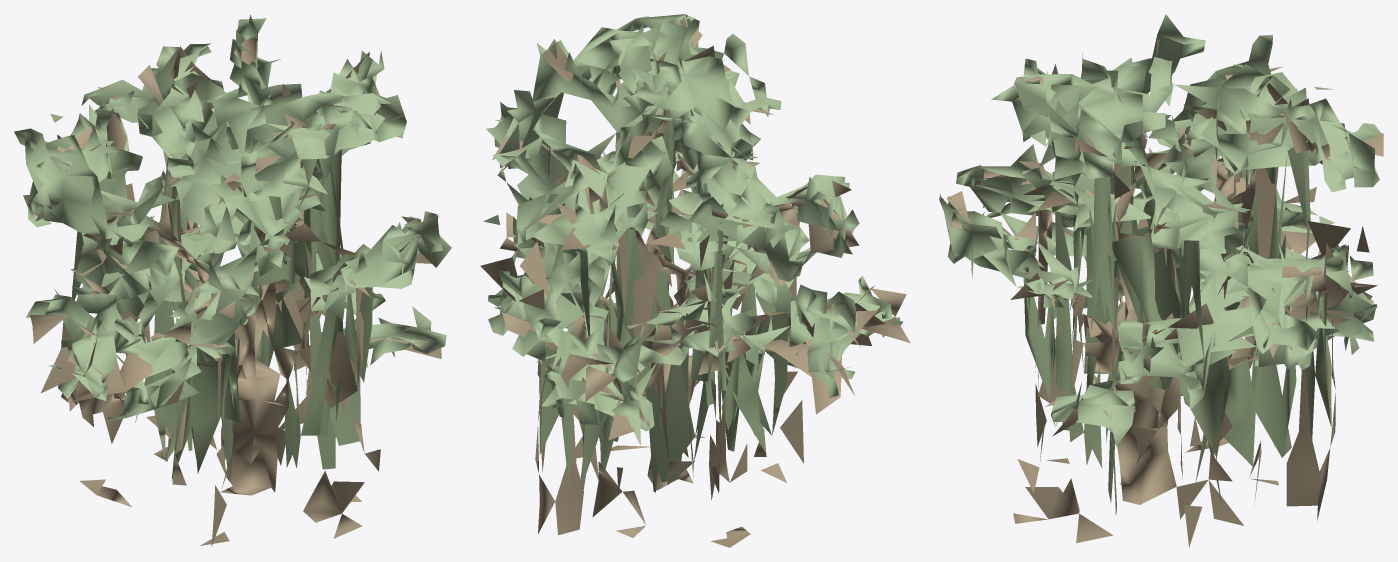
The model's file is banyan-far.glb.
3 views of the same model, side by side, from view 1: azimuth 30°, elevation 25°; view 2: azimuth 150°, elevation 25°; view 3: azimuth 270°, elevation 25° (orthographic). The views are drawn at different scales.
Bounding box in the file's own units: 17.6 × 20.25 × 16.5.
